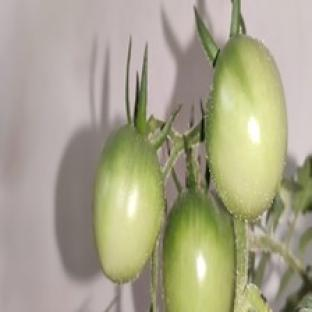Tomato: (205, 35, 286, 220), (94, 126, 164, 282), (163, 190, 235, 311)
